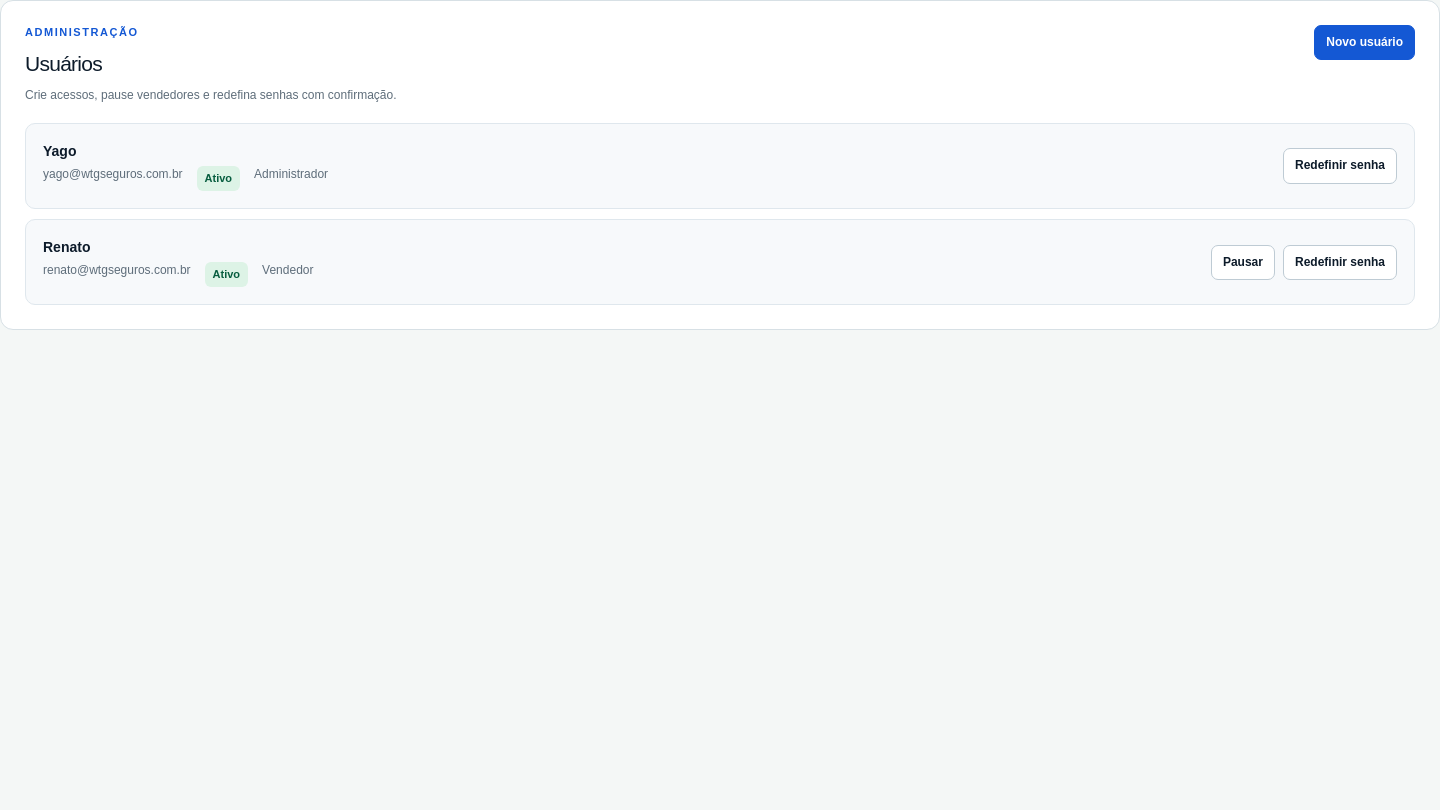
Scenario: gestão operacional de usuários › recupera rejeição da pausa sem deixar a confirmação bloqueada
Click the button with aria-label "Pausar Renato" at (1243, 262), box [1211,244,1275,280]
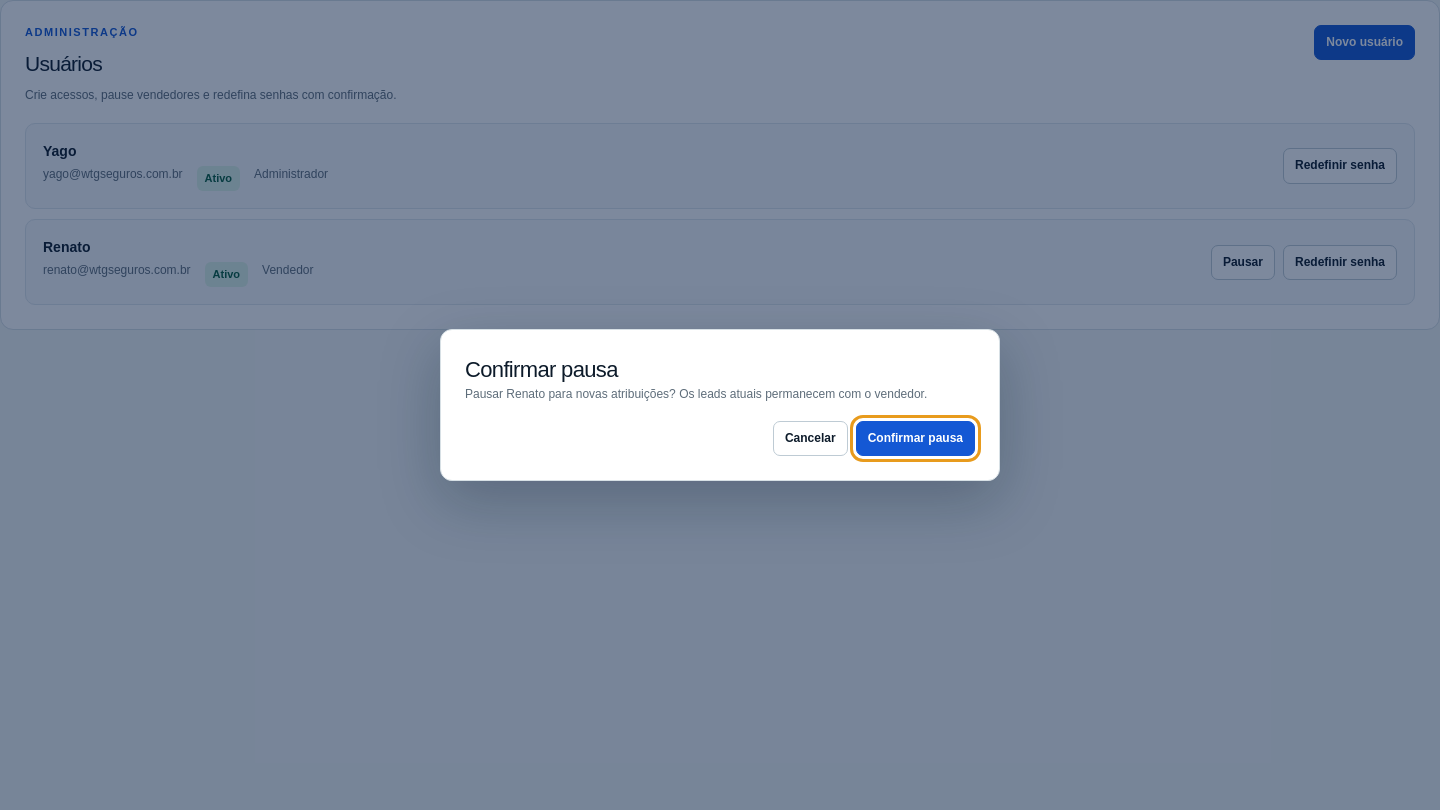
Click the button "Confirmar pausa" at (915, 439), box [856,421,975,456]
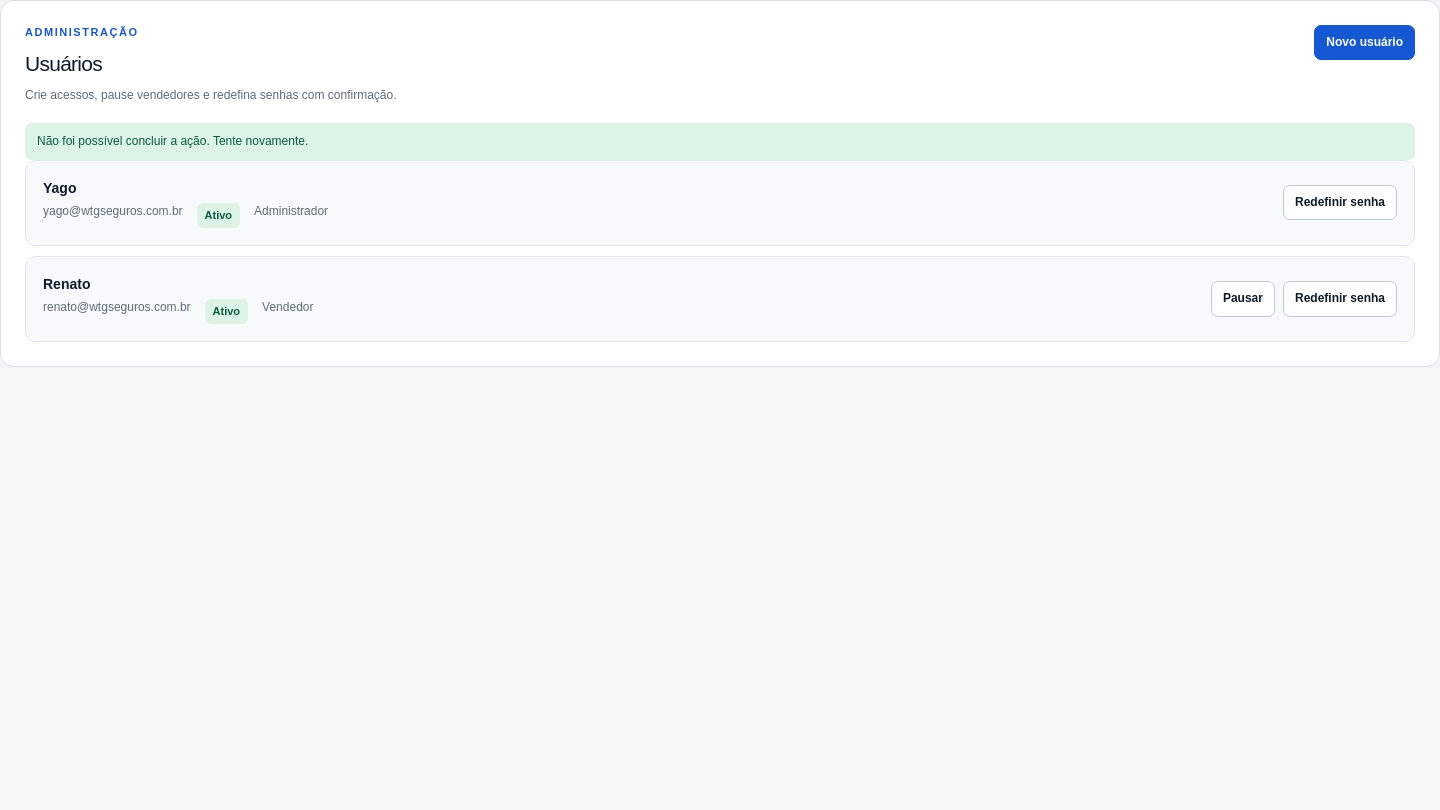
Expected: the message reads "Não foi possível concluir a ação. Tente novamente.", [37,134,308,148]
